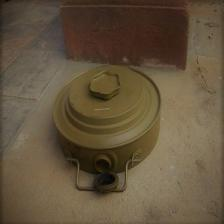TM-46: (27, 57, 184, 188)
